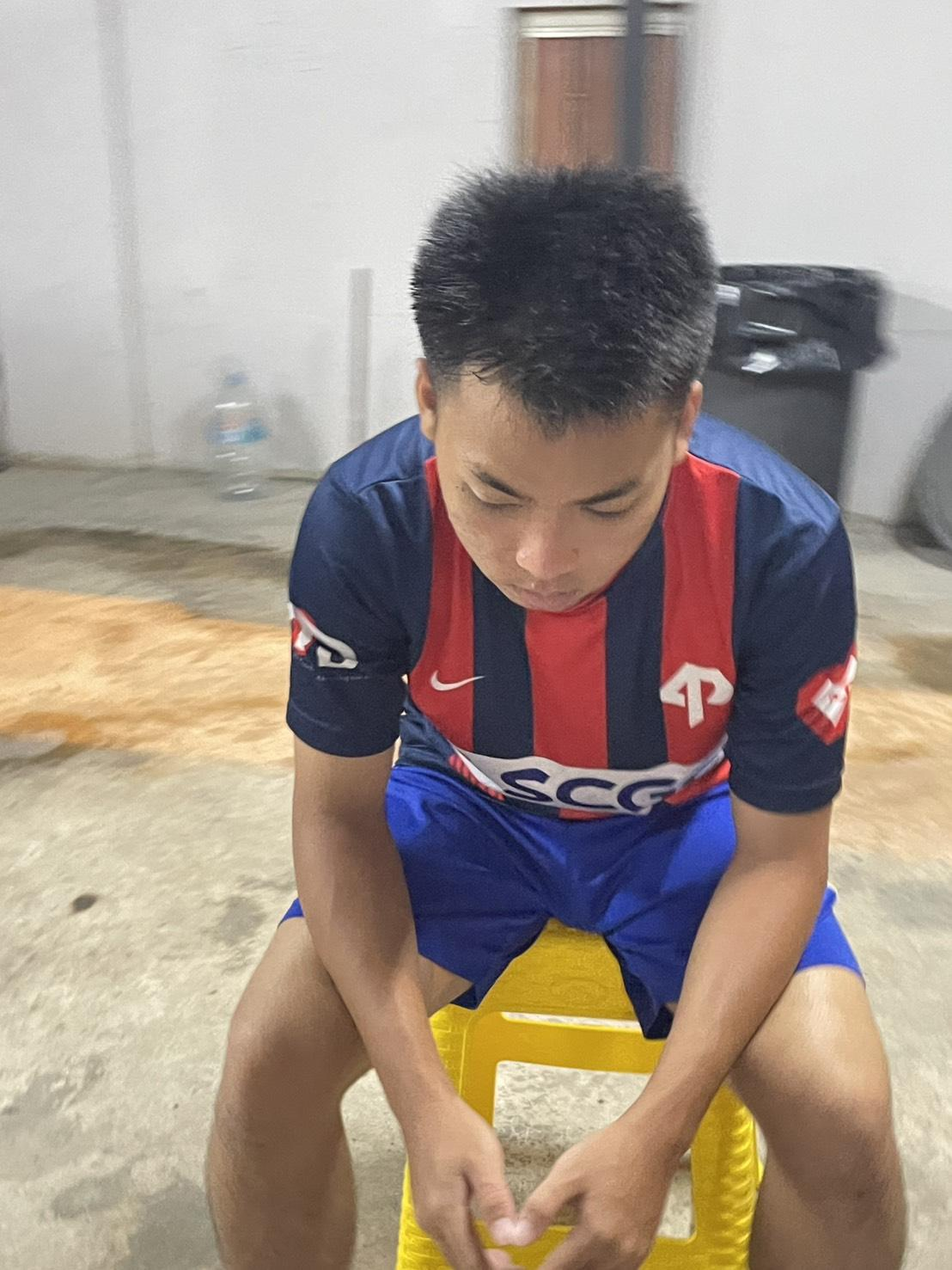BadPosture: (288, 169, 855, 993), (288, 164, 881, 819), (287, 168, 855, 818)
